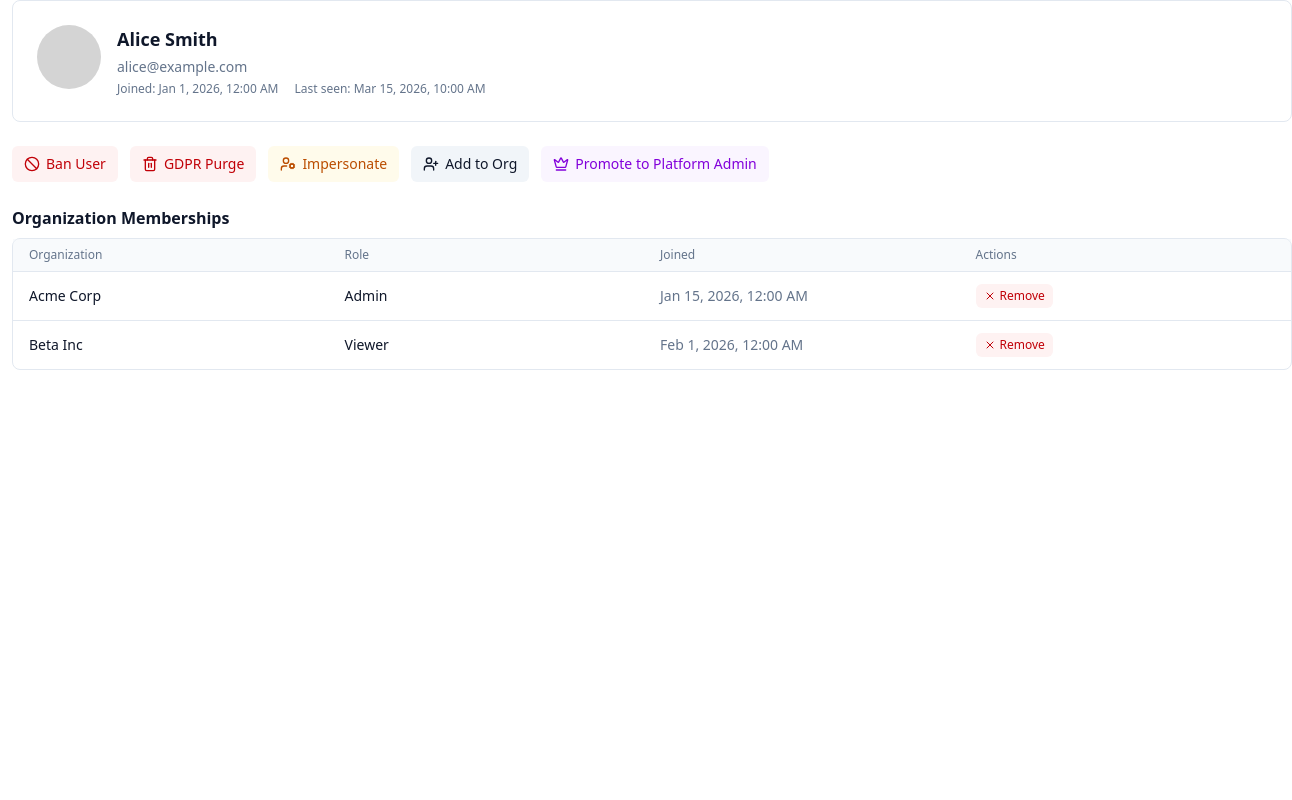
UserDetail › updates ban status after successful ban
Click the button with test id "ban-toggle-btn" at (65, 164), box left=12, top=146, right=118, bottom=182
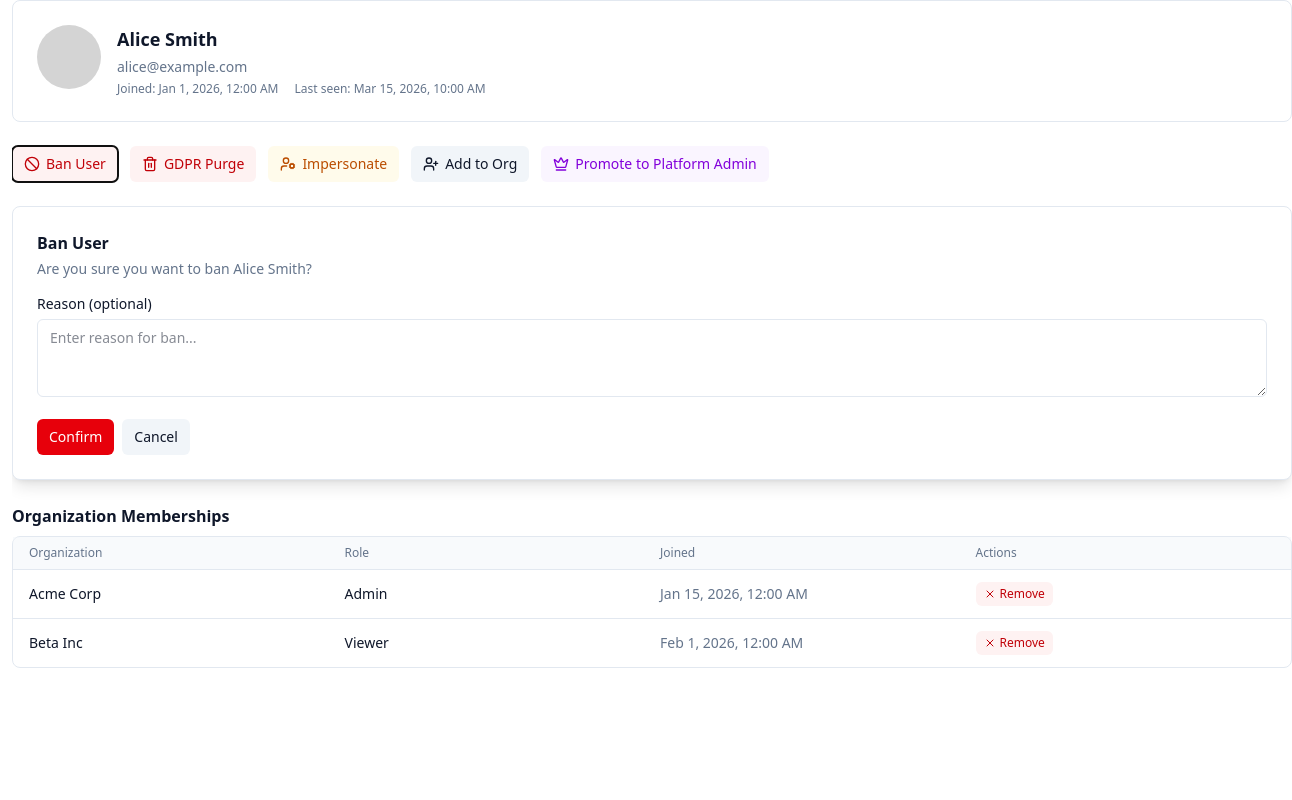
Click the button with test id "ban-confirm-btn" at (76, 437), box left=37, top=419, right=114, bottom=455
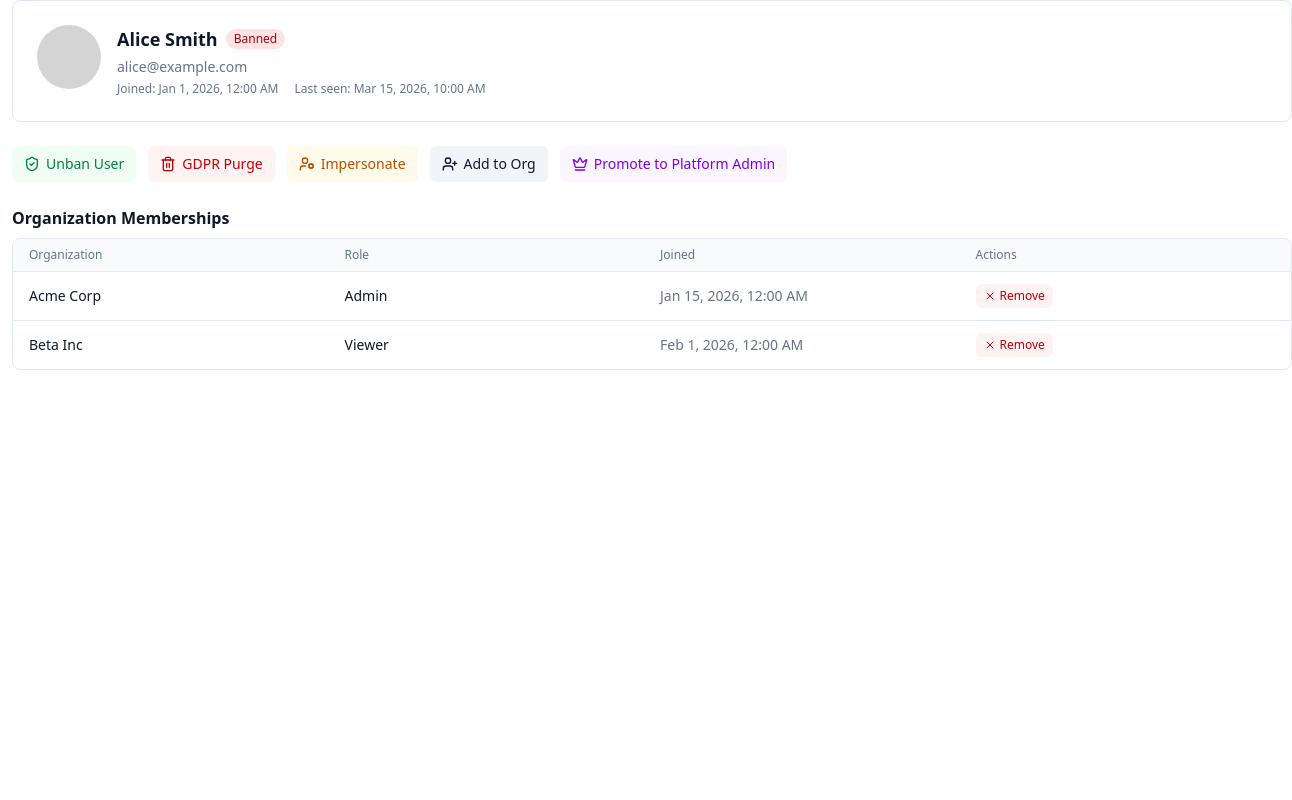
Expected: the text "Banned" is shown, left=226, top=29, right=285, bottom=49
